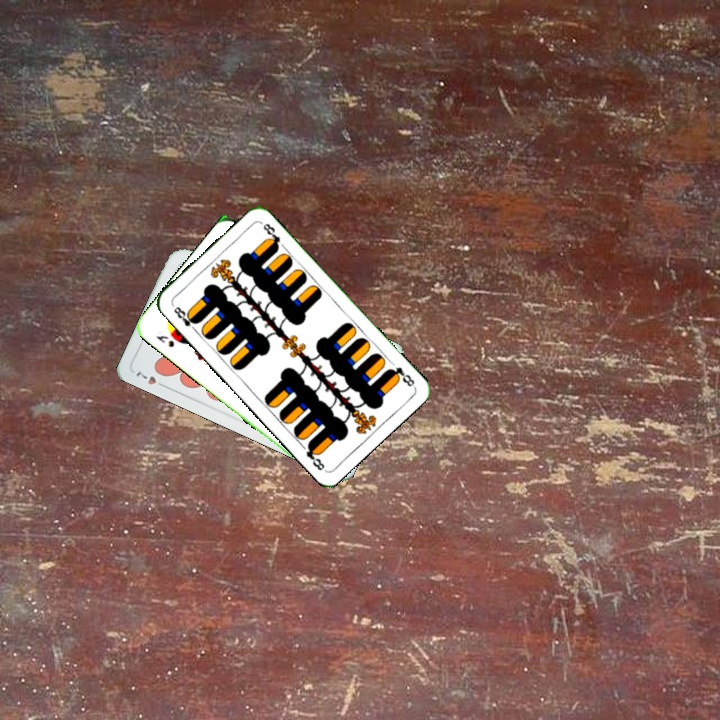E8: (170, 302, 201, 334), (384, 363, 417, 389)
H7: (132, 367, 169, 391)
SK: (152, 331, 177, 350)
